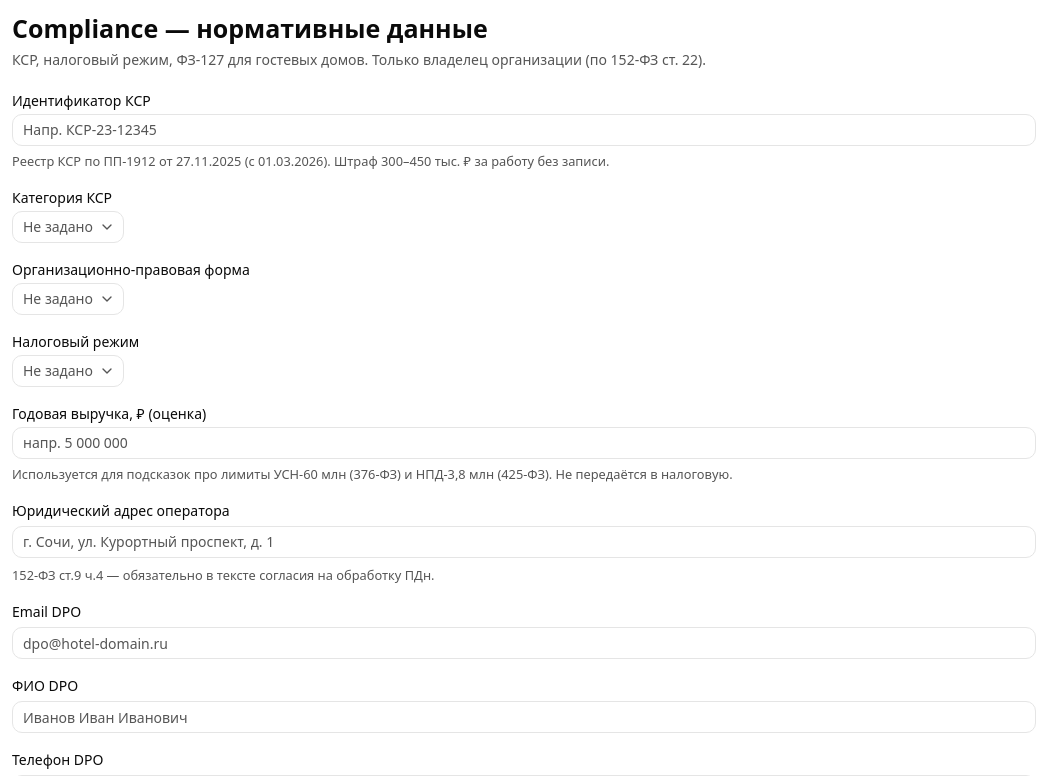
Scenario: <ComplianceStep> — enum coverage (drift surface) › [E2] all 5 legalEntityType options present
The width and height of the screenshot is (1048, 776).
What coordinates should you click on to do the following:
click the dropdown named "Организационно-правовая форма"
I would click on:
 (68, 299)
Its box is [12, 283, 124, 315].
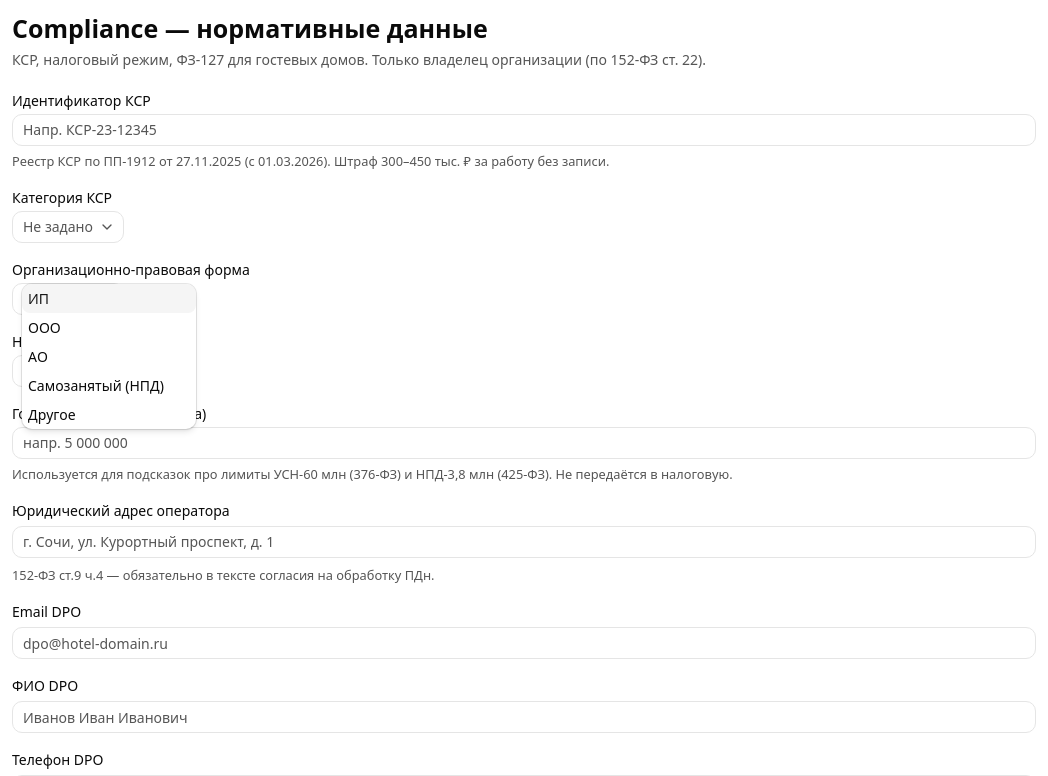
Check: the number of options is 5, box [22, 284, 196, 313]; [28, 318, 61, 337]; [28, 347, 48, 366]; [28, 376, 164, 395]; [28, 405, 76, 424]
